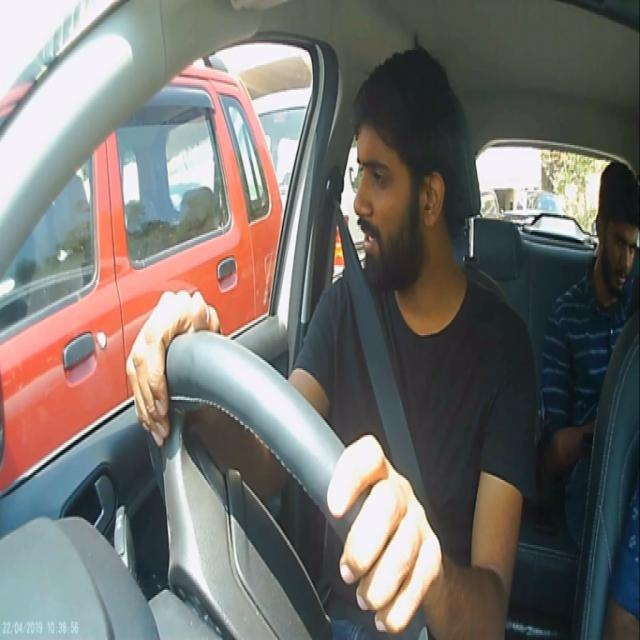seatbelt: (338, 312, 472, 618)
